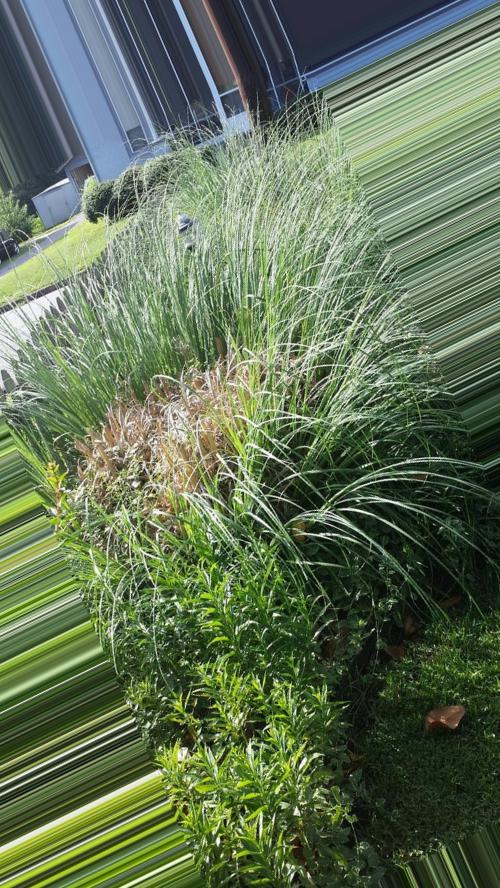patch: (125, 403, 241, 464)
